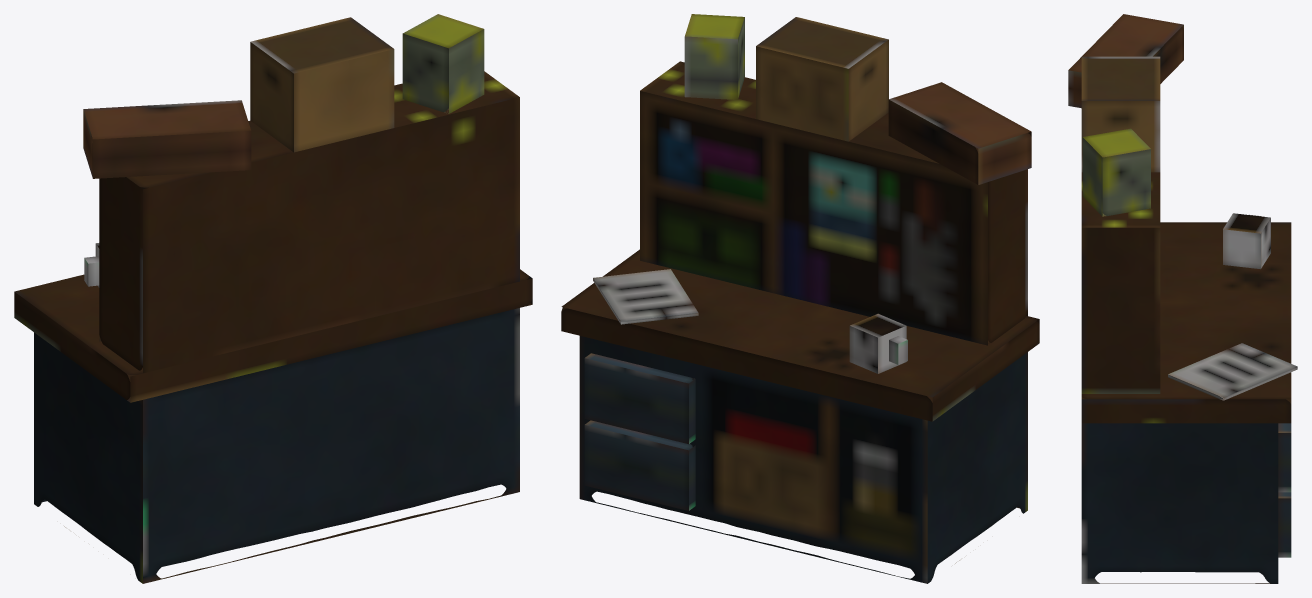
The model's file is Workbench.obj.
3 renders of one model, left to right at view 1: azimuth 30°, elevation 25°; view 2: azimuth 150°, elevation 25°; view 3: azimuth 270°, elevation 25°, orthographic. The views are drawn at different scales.
Parts seen in each view (by area): view 1: mesa, pratileira, cube, box, box ferro, tinta; view 2: pratileira, mesa, cube, gaveta, box, box ferro, tinta, jorçna, cafe; view 3: mesa, cube, pratileira, box, tinta, box ferro, jorçna, cafe, gaveta.
Boxes of the visible parts, box(x1,y1,x2,y2) form: mesa: box(34, 308, 519, 583); pratileira: box(99, 71, 519, 373); cube: box(14, 256, 532, 402); box: box(250, 17, 394, 152); box ferro: box(83, 100, 251, 178); tinta: box(402, 14, 484, 113); pratileira: box(640, 61, 1027, 345); mesa: box(579, 336, 1027, 583); cube: box(561, 249, 1039, 421); gaveta: box(584, 353, 695, 510); box: box(756, 17, 888, 141); box ferro: box(888, 82, 1031, 184); tinta: box(684, 14, 744, 99); jorçna: box(593, 269, 698, 324); cafe: box(849, 313, 906, 373); mesa: box(1081, 397, 1278, 583); cube: box(1081, 214, 1291, 423); pratileira: box(1081, 172, 1160, 393); box: box(1081, 56, 1160, 172); tinta: box(1082, 128, 1150, 216); box ferro: box(1068, 14, 1183, 108); jorçna: box(1168, 343, 1297, 400); cafe: box(1223, 213, 1270, 269); gaveta: box(1278, 423, 1291, 557).
Bounding box in the file's own units: 2.09 × 2.25 × 1.09.
